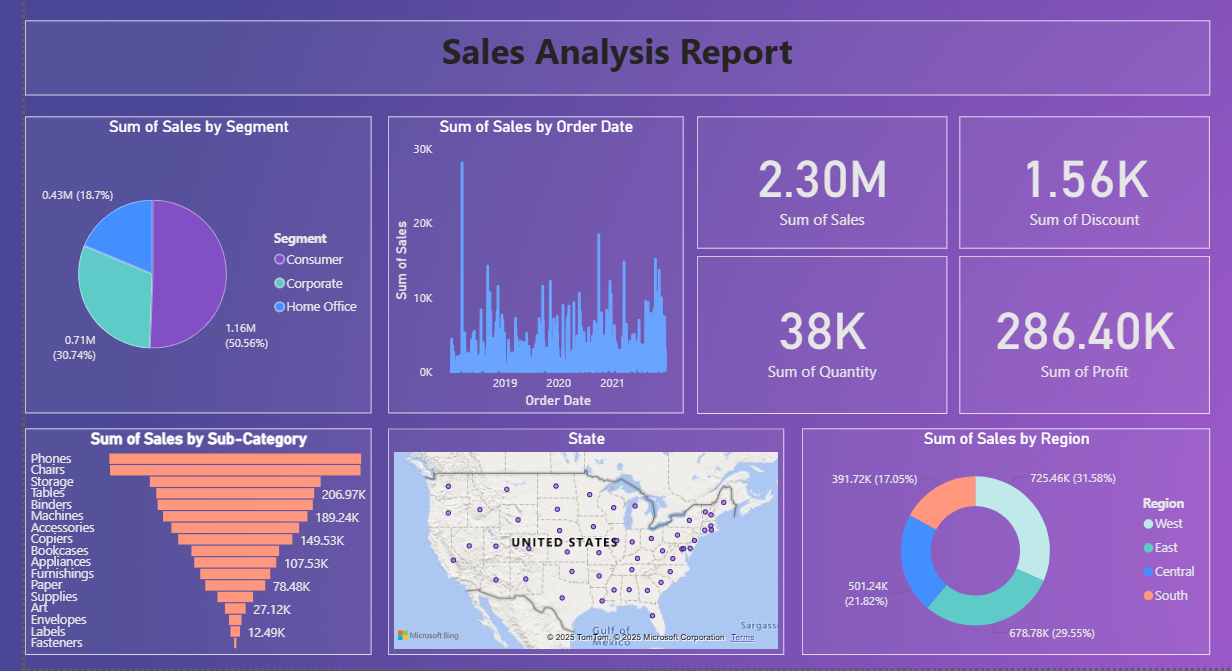

The page's visual inventory and layout, read from the dashboard file:
{"tool":"powerbi","page":{"name":"Page 1","canvas":[1280,720],"ordinal":0},"visuals":[{"type":"donutChart","fields":{"Category":["Orders.Region"],"Y":["Sum(Orders.Sales)"]},"box":[823.9,466,432.6,240.2],"z":0},{"type":"funnel","fields":{"Category":["Orders.Sub-Category"],"Y":["Sum(Orders.Sales)"]},"box":[0,466,367.4,224.3],"z":1000},{"type":"map","fields":{"Category":["Orders.State"]},"box":[384.9,466,419.9,240.2],"z":2000},{"type":"pieChart","fields":{"Category":["Orders.Segment"],"Y":["Sum(Orders.Sales)"]},"box":[0,135.2,367.4,314.9],"z":3000},{"type":"lineChart","fields":{"Category":["Orders.Order Date"],"Y":["Sum(Orders.Sales)"]},"box":[384.9,135.2,313.4,314.9],"z":4000},{"type":"card","fields":{"Values":["Sum(Orders.Sales)"]},"box":[712.6,135.2,265.6,140],"z":4001},{"type":"card","fields":{"Values":["Sum(Orders.Profit)"]},"box":[991,283.1,265.6,167],"z":4002},{"type":"card","fields":{"Values":["Sum(Orders.Quantity)"]},"box":[712.6,283.1,265.6,167],"z":4003},{"type":"card","fields":{"Values":["Sum(Orders.Discount)"]},"box":[991,135.2,265.6,140],"z":4004},{"type":"textbox","box":[0,33.4,1256.6,79.5],"z":4005}]}

Visuals, with their boxes in screenshot pixels (x1, y1, x2, y2):
donutChart - Orders.Region x Sum(Orders.Sales): locate(801, 428, 1212, 656)
funnel - Orders.Sub-Category x Sum(Orders.Sales): locate(16, 428, 366, 641)
map - Orders.State: locate(383, 428, 782, 656)
pieChart - Orders.Segment x Sum(Orders.Sales): locate(16, 113, 366, 413)
lineChart - Orders.Order Date x Sum(Orders.Sales): locate(383, 113, 681, 413)
card - Sum(Orders.Sales): locate(695, 113, 947, 246)
card - Sum(Orders.Profit): locate(960, 254, 1213, 413)
card - Sum(Orders.Quantity): locate(695, 254, 947, 413)
card - Sum(Orders.Discount): locate(960, 113, 1213, 246)
textbox: locate(16, 16, 1213, 91)
